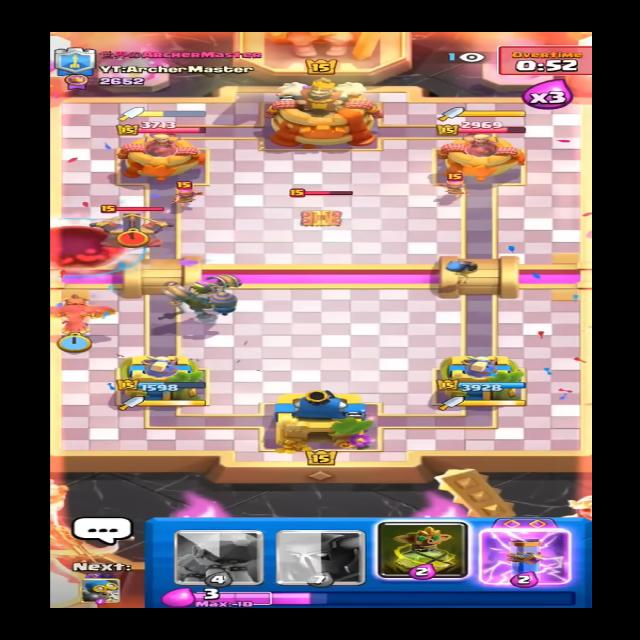archer: (173, 179, 209, 203), (432, 174, 473, 194)
tesla-closed: (290, 188, 358, 229)
x-bow: (84, 200, 174, 249)
